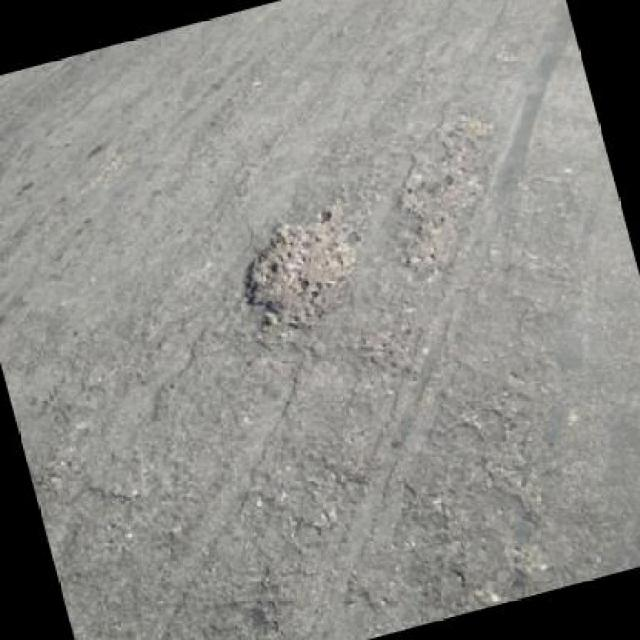pothole1: (367, 107, 531, 282), (223, 193, 385, 342)
